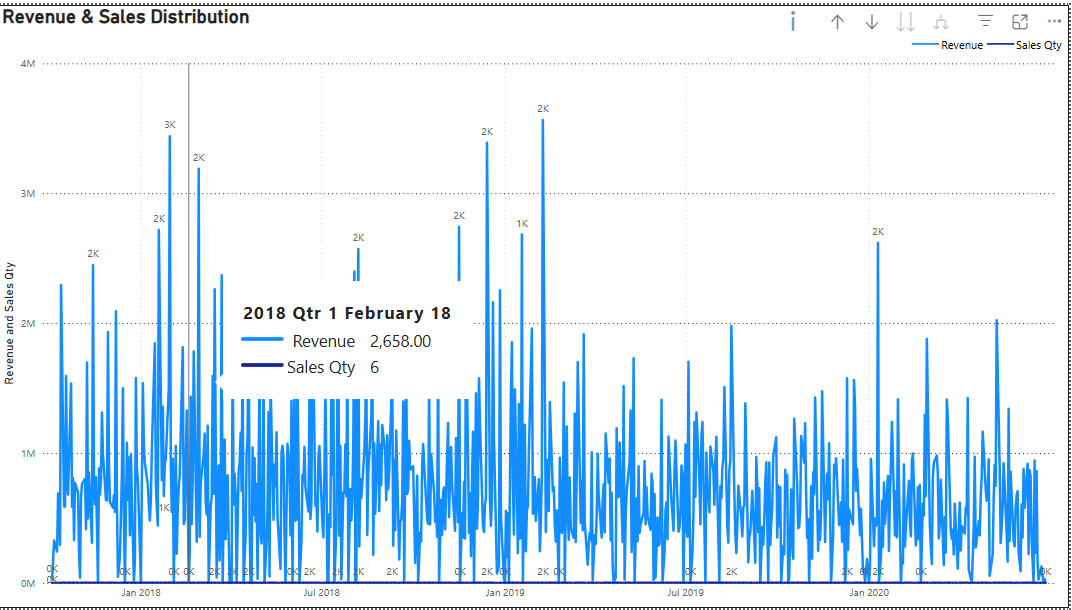

The page's visual inventory and layout, read from the dashboard file:
{"tool":"powerbi","page":{"name":"Sales Report(3)","canvas":[1280,720],"ordinal":2},"visuals":[{"type":"lineChart","title":"Revenue & Sales Distribution","fields":{"Category":["date.date.Variation.Date Hierarchy.Year","date.date.Variation.Date Hierarchy.Quarter","date.date.Variation.Date Hierarchy.Month","date.date.Variation.Date Hierarchy.Day"],"Y":["BaseMeasures.Revenue","BaseMeasures.Sales Qty"]},"box":[0,0,1280,720],"z":0}]}

Visuals, with their boxes on the page's 1280x720 design canvas (x1, y1, x2, y2). These are canvas units, not pixel positions in the 1072x610 screenshot, which may show the page scaled, cropped or inside an application window:
"Revenue & Sales Distribution" lineChart: locate(0, 0, 1280, 720)
